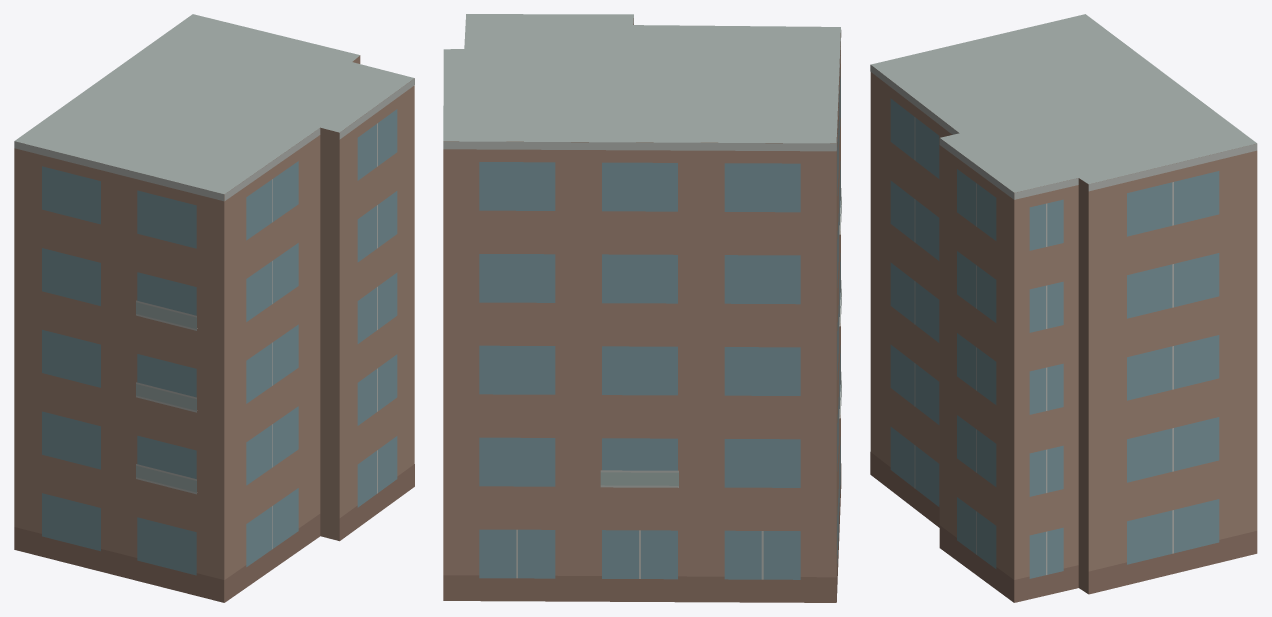
Rendered from survey-upis-32685115.glb.
3 renders of one model, left to right at view 1: azimuth 30°, elevation 25°; view 2: azimuth 150°, elevation 25°; view 3: azimuth 270°, elevation 25°, orthographic. The views are drawn at different scales.
Visible parts, largest first — view 1: survey-upis-32685115.tmp; view 2: survey-upis-32685115.tmp; view 3: survey-upis-32685115.tmp.
Boxes of the visible parts, left/top/right/bottom form: survey-upis-32685115.tmp: left=14, top=14, right=414, bottom=602; survey-upis-32685115.tmp: left=443, top=14, right=841, bottom=602; survey-upis-32685115.tmp: left=870, top=14, right=1257, bottom=602.
Bounding box in the file's own units: 13.19 × 14.1 × 12.06.
